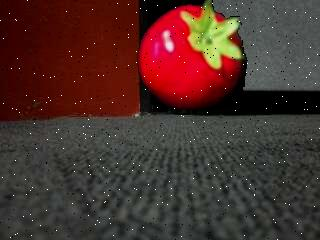Tomato: (137, 0, 247, 116)
